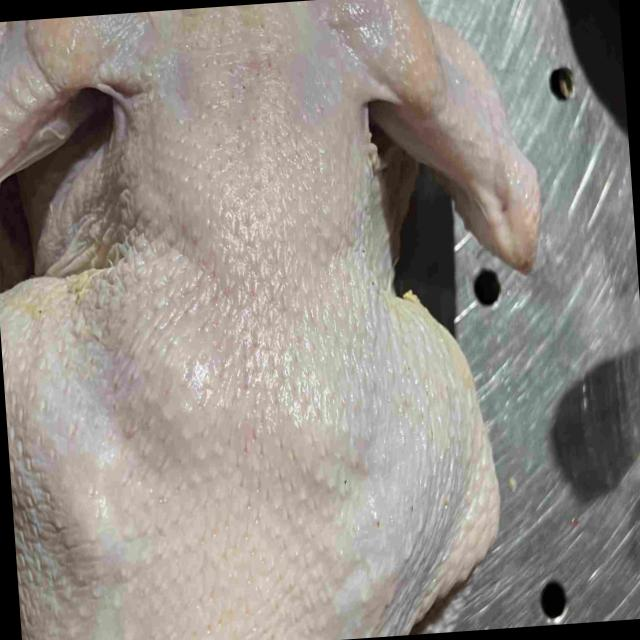back: (47, 214, 389, 640)
leg: (368, 403, 494, 637)
wing: (283, 0, 546, 273), (0, 10, 164, 197)
